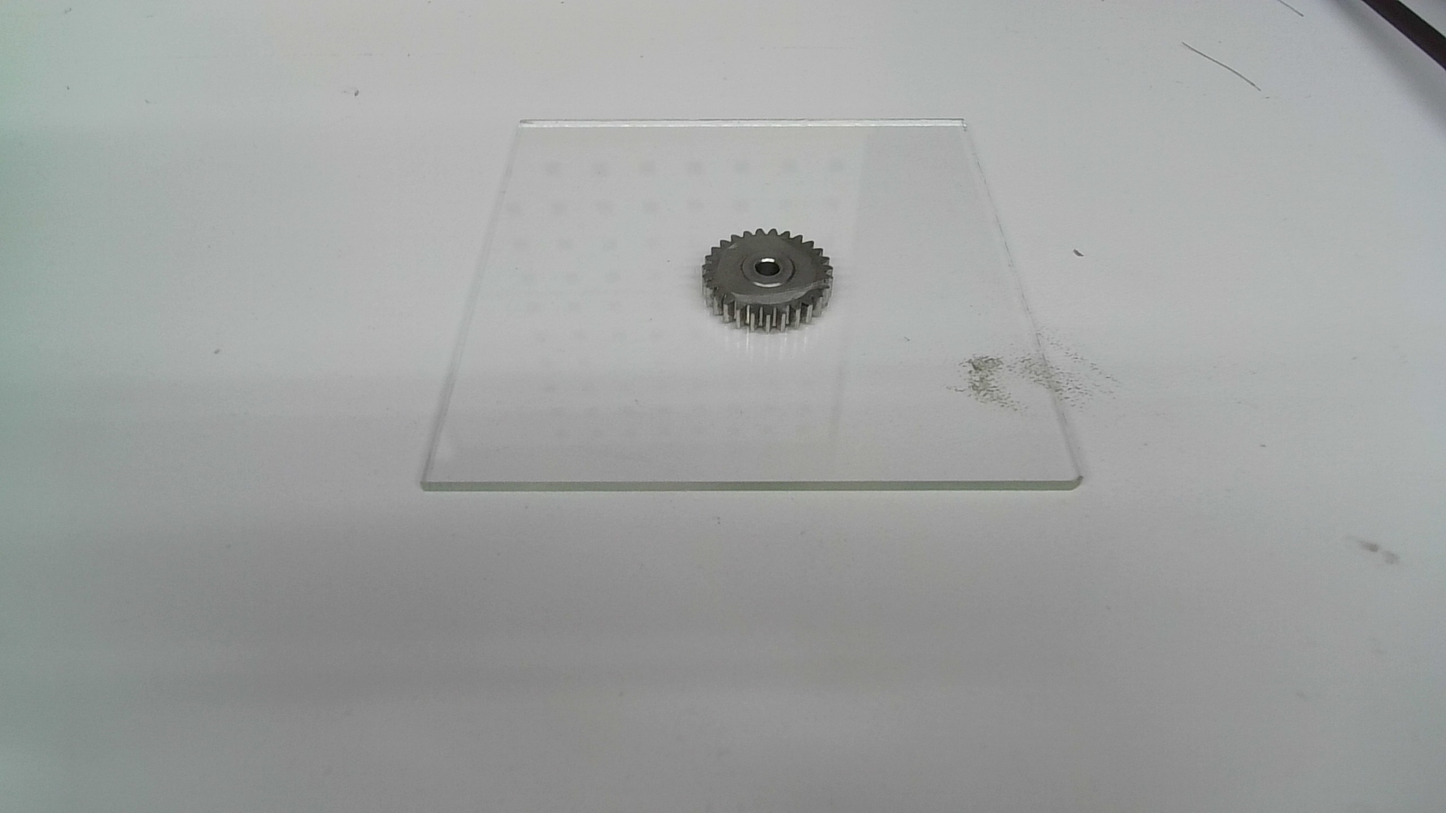gear: (700, 226, 834, 334)
